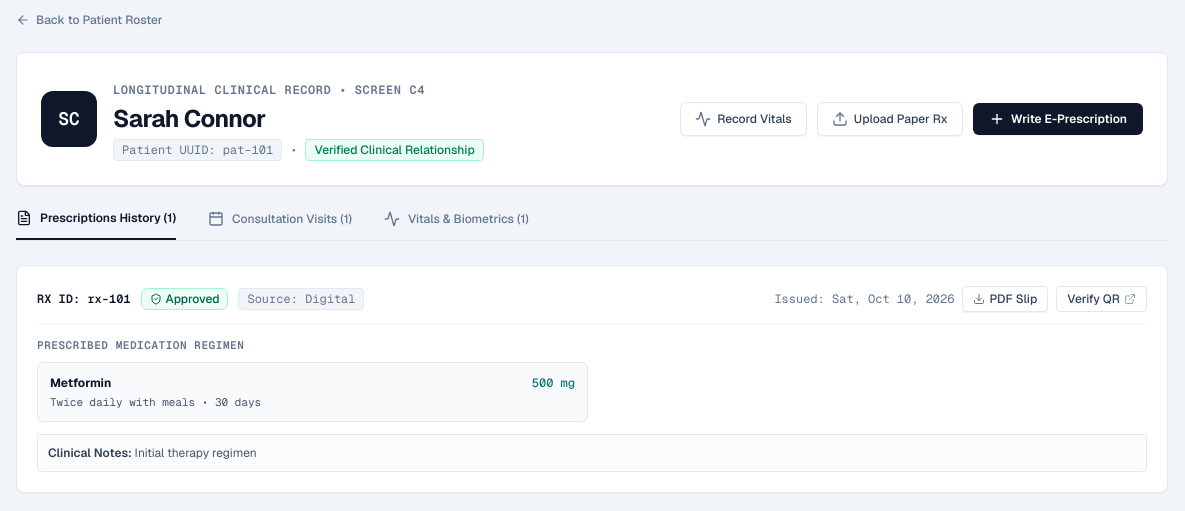
Test: DoctorPatientChart Component (Screen C4) › switches to Vitals tab and renders biometrics with critical alert flag
Expected: the heading "Sarah Connor" is shown, [113,103,266,134]
Click the button "Vitals & Biometrics (1)": click(456, 225) [384,211,529,239]
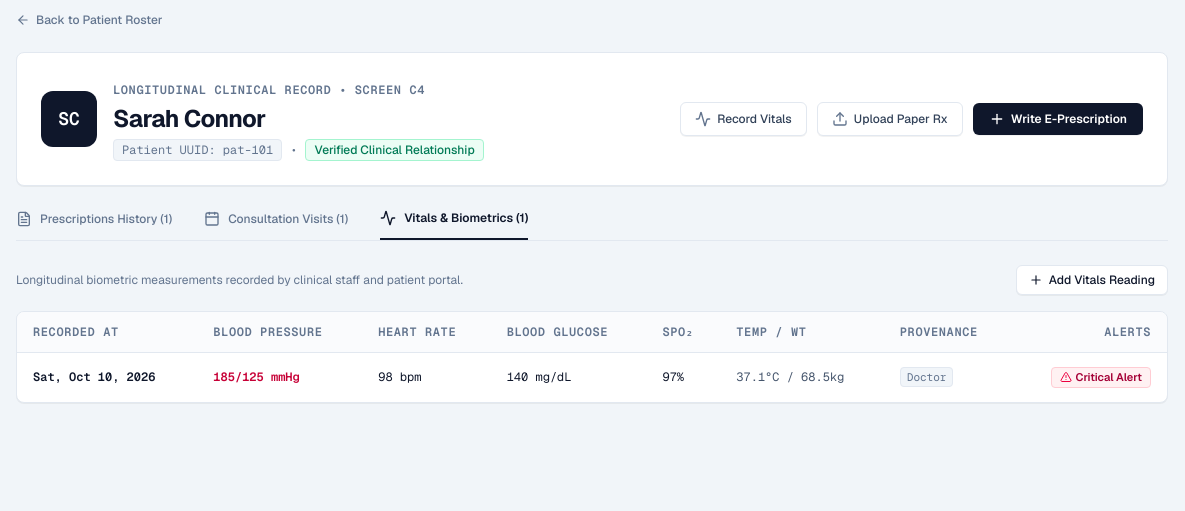
Now the text "185/125 mmHg" is shown, box [213,369,300,385]
Now the text "Critical Alert" is shown, box [1050,367,1151,388]
